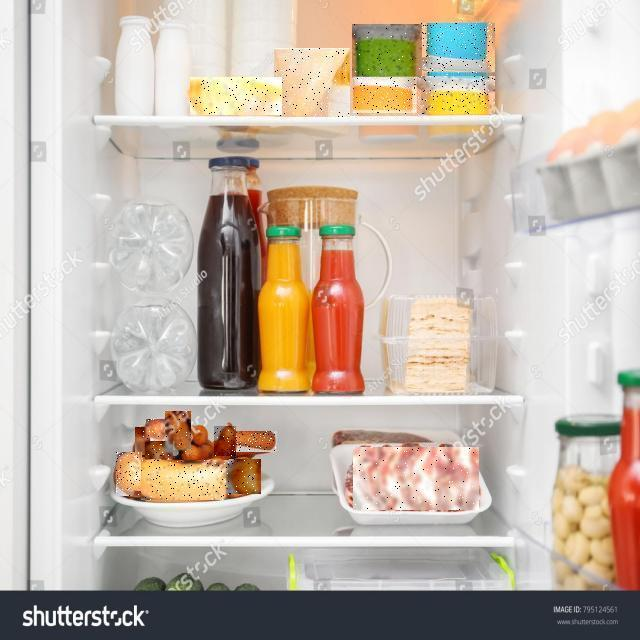cheese: (99, 58, 449, 175), (49, 58, 331, 172)
